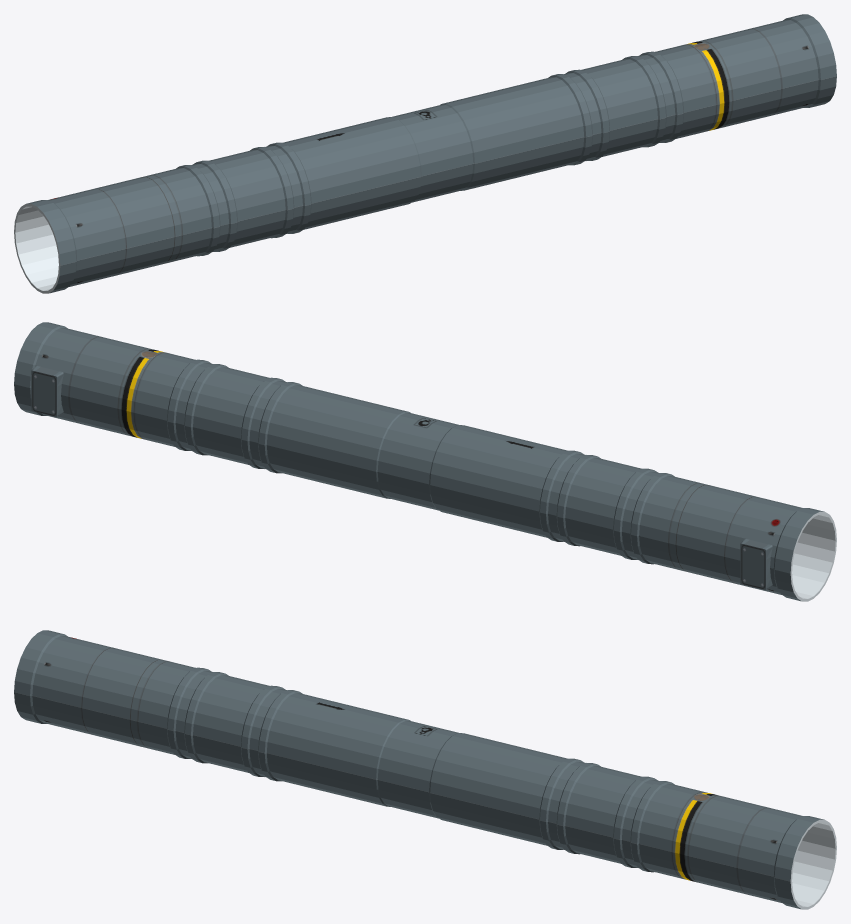
The model's file is MM40_Canister.obj.
3 renders of one model, top to bottom at view 1: azimuth 30°, elevation 25°; view 2: azimuth 150°, elevation 25°; view 3: azimuth 330°, elevation 25°, orthographic.
Parts seen in each view (by area): view 1: MM40_Canister; view 2: MM40_Canister; view 3: MM40_Canister.
Part boxes in pixels (x1,y1,x2,y2): MM40_Canister: [14, 14, 836, 293]; MM40_Canister: [14, 322, 836, 601]; MM40_Canister: [14, 630, 836, 909].
Bounding box in the file's own units: 6000 × 620 × 650.
1 material, 1 textured.
